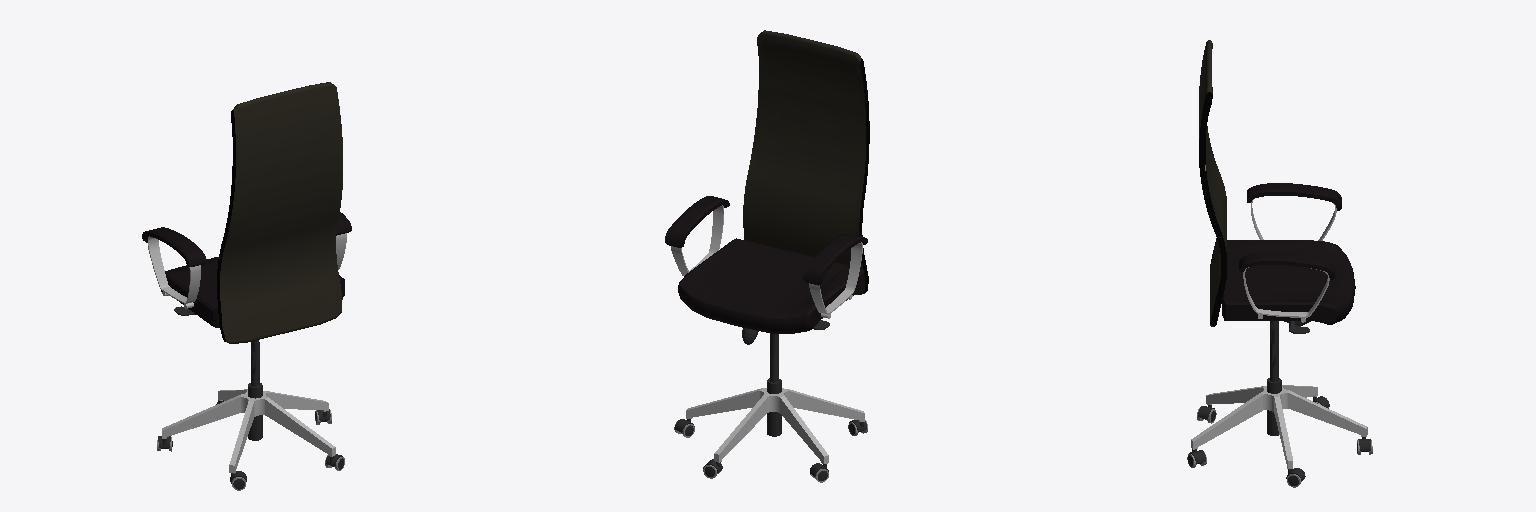
The picture shows the model from 3 angles: view 1: azimuth 30°, elevation 25°; view 2: azimuth 150°, elevation 25°; view 3: azimuth 270°, elevation 25°; orthographic projection.
Parts seen in each view (by area): view 1: Mesh1 Group1 Model, Mesh3 Group3 Model, Mesh6 Group6 Model, Mesh12 Group10 Armrest2 Model, Mesh13 Group11 Armrest2 Model, Mesh2 Group2 Model; view 2: Mesh1 Group1 Model, Mesh6 Group6 Model, Mesh3 Group3 Model, Mesh9 Group9 Armrest1 Model, Mesh13 Group11 Armrest2 Model, Mesh12 Group10 Armrest2 Model, Mesh2 Group2 Model, Mesh8 Group8 Armrest1 Model; view 3: Mesh6 Group6 Model, Mesh3 Group3 Model, Mesh1 Group1 Model, Mesh9 Group9 Armrest1 Model, Mesh13 Group11 Armrest2 Model, Mesh2 Group2 Model, Mesh8 Group8 Armrest1 Model.
Part boxes in pixels (x1,y1,x2,y2): Mesh1 Group1 Model: (217,82,342,343); Mesh3 Group3 Model: (162,389,335,473); Mesh6 Group6 Model: (161,257,344,327); Mesh12 Group10 Armrest2 Model: (148,236,200,303); Mesh13 Group11 Armrest2 Model: (142,227,206,266); Mesh2 Group2 Model: (248,340,262,440); Mesh1 Group1 Model: (743,30,869,294); Mesh6 Group6 Model: (678,238,863,333); Mesh3 Group3 Model: (686,388,864,463); Mesh9 Group9 Armrest1 Model: (665,196,729,247); Mesh13 Group11 Armrest2 Model: (803,233,867,285); Mesh12 Group10 Armrest2 Model: (809,242,862,314); Mesh2 Group2 Model: (767,334,781,436); Mesh8 Group8 Armrest1 Model: (671,205,723,275); Mesh6 Group6 Model: (1222,240,1355,324); Mesh3 Group3 Model: (1191,385,1367,468); Mesh1 Group1 Model: (1199,40,1226,326); Mesh9 Group9 Armrest1 Model: (1239,252,1334,279); Mesh13 Group11 Armrest2 Model: (1247,183,1341,210); Mesh2 Group2 Model: (1267,321,1281,435); Mesh8 Group8 Armrest1 Model: (1243,267,1329,317).
Bounding box in the file's own units: 0.451 × 0.991 × 0.4336.